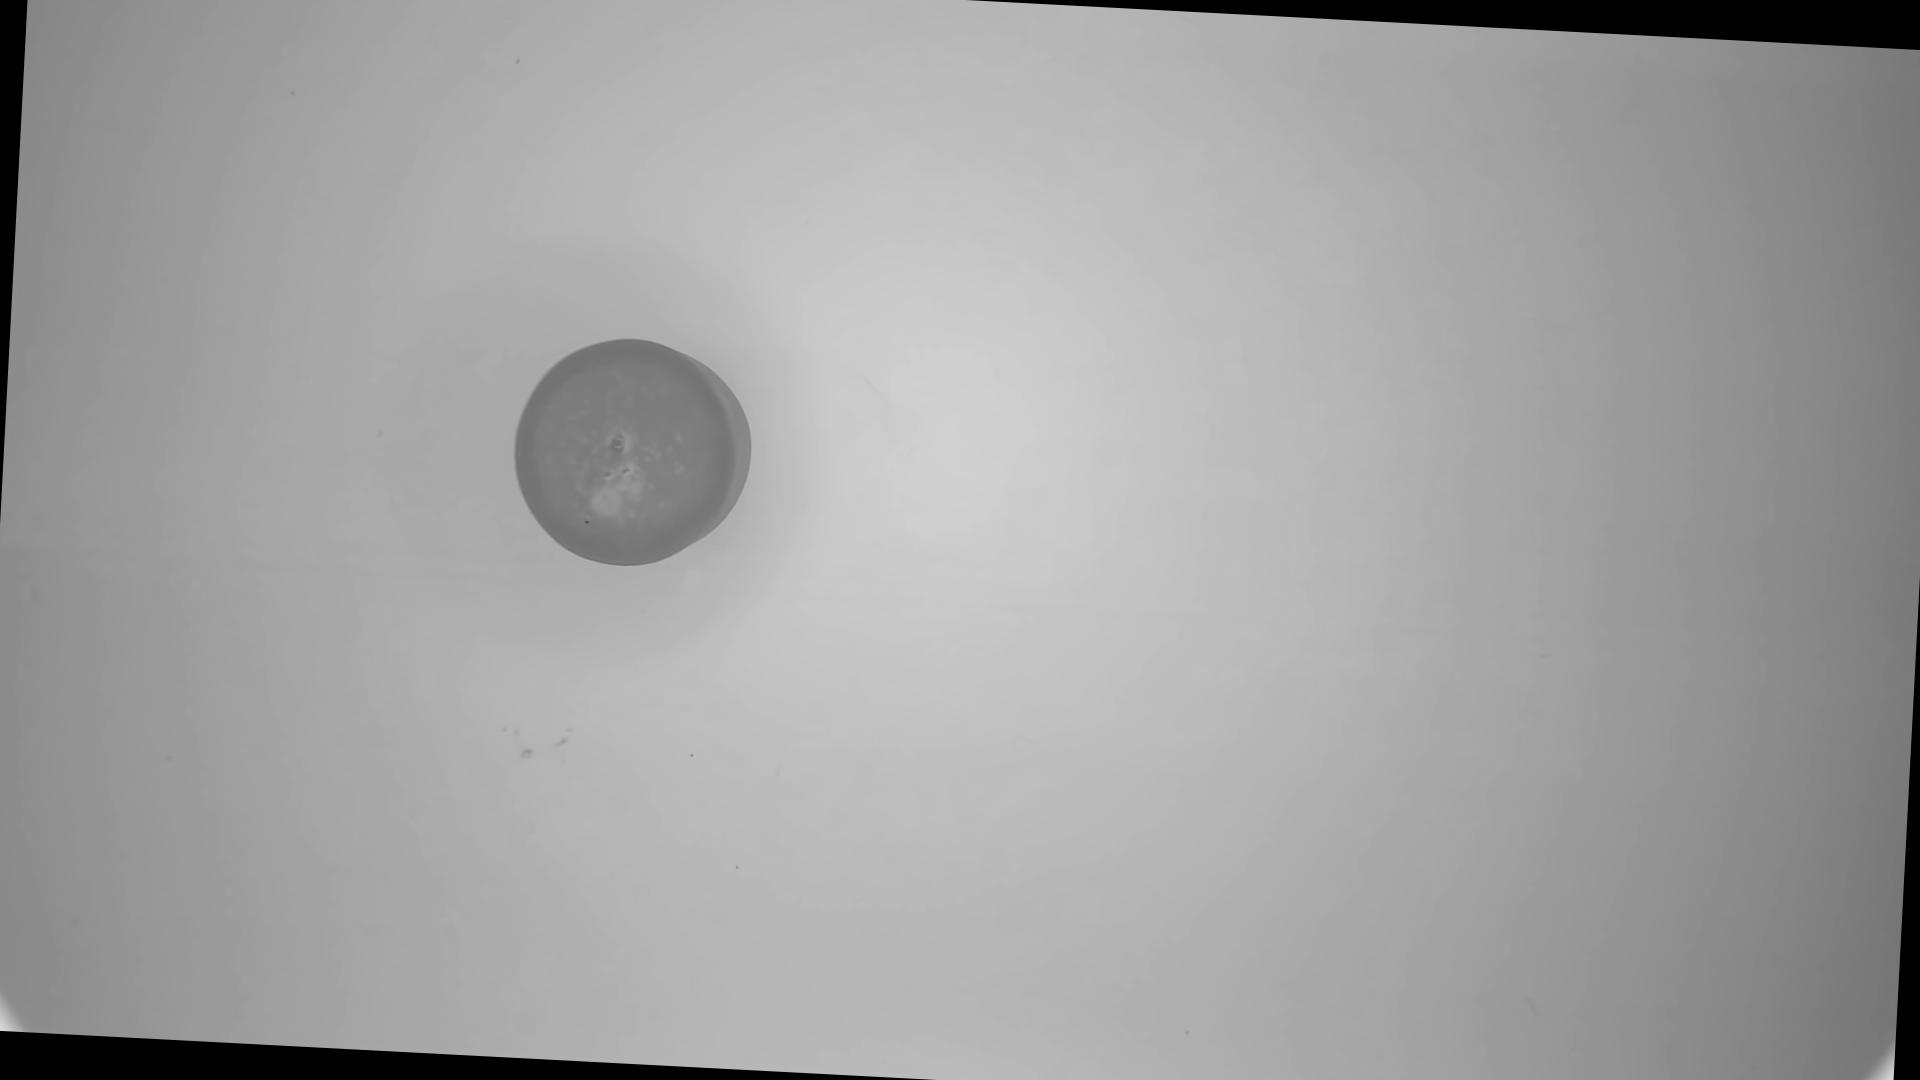abnormal: (506, 328, 762, 575)
